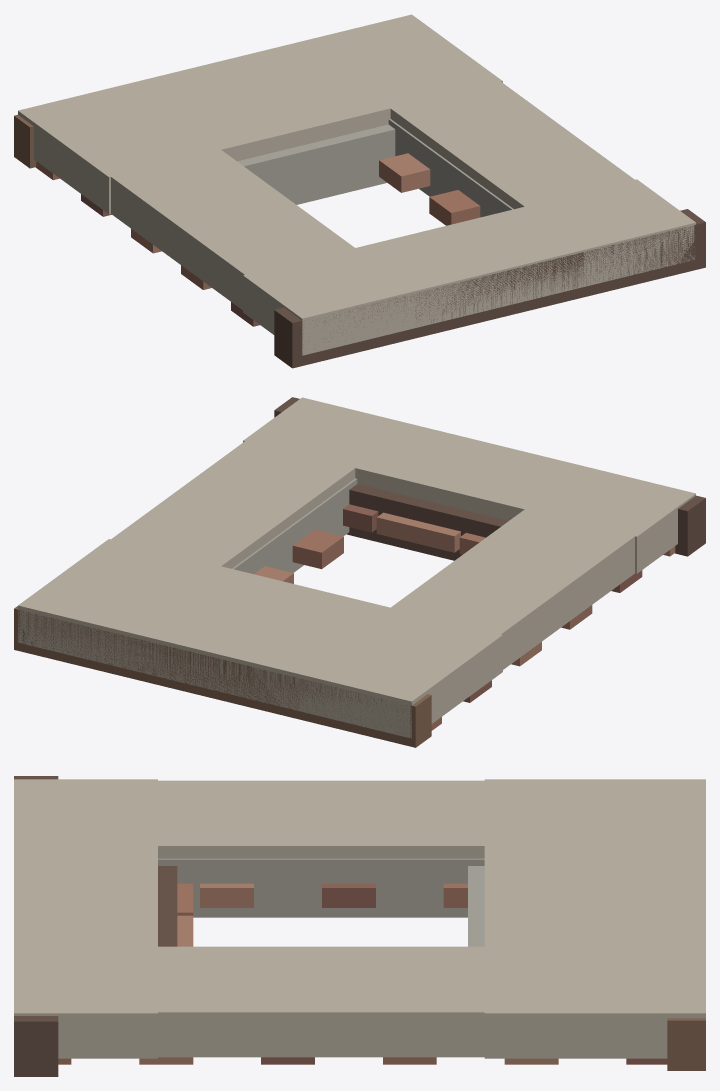
Rendered from tier03_brick_masonry_wall_with_window.glb.
The picture shows the model from 3 angles, top to bottom: view 1: azimuth 30°, elevation 25°; view 2: azimuth 150°, elevation 25°; view 3: azimuth 270°, elevation 25°; orthographic projection. The views are drawn at different scales.
Visible parts, largest first — view 1: tier03_brick_masonry_wall_with_window_000, tier03_brick_masonry_wall_with_window_001, tier03_brick_masonry_wall_with_window_002, tier03_brick_masonry_wall_with_window_003, tier03_brick_masonry_wall_with_window_044, tier03_brick_masonry_wall_with_window_046, tier03_brick_masonry_wall_with_window_049, tier03_brick_masonry_wall_with_window_021, tier03_brick_masonry_wall_with_window_026, tier03_brick_masonry_wall_with_window_045; view 2: tier03_brick_masonry_wall_with_window_002, tier03_brick_masonry_wall_with_window_000, tier03_brick_masonry_wall_with_window_001, tier03_brick_masonry_wall_with_window_003, tier03_brick_masonry_wall_with_window_045, tier03_brick_masonry_wall_with_window_047, tier03_brick_masonry_wall_with_window_049, tier03_brick_masonry_wall_with_window_032, tier03_brick_masonry_wall_with_window_044, tier03_brick_masonry_wall_with_window_026, tier03_brick_masonry_wall_with_window_033; view 3: tier03_brick_masonry_wall_with_window_001, tier03_brick_masonry_wall_with_window_002, tier03_brick_masonry_wall_with_window_000, tier03_brick_masonry_wall_with_window_003, tier03_brick_masonry_wall_with_window_048, tier03_brick_masonry_wall_with_window_044, tier03_brick_masonry_wall_with_window_045, tier03_brick_masonry_wall_with_window_047, tier03_brick_masonry_wall_with_window_046, tier03_brick_masonry_wall_with_window_023, tier03_brick_masonry_wall_with_window_028, tier03_brick_masonry_wall_with_window_018 (+2 smaller).
Part boxes in pixels (box(x1,y1,x2,y2)): tier03_brick_masonry_wall_with_window_000: box(20, 83, 414, 355); tier03_brick_masonry_wall_with_window_001: box(300, 15, 694, 286); tier03_brick_masonry_wall_with_window_002: box(18, 14, 502, 213); tier03_brick_masonry_wall_with_window_003: box(243, 179, 695, 355); tier03_brick_masonry_wall_with_window_044: box(274, 209, 705, 368); tier03_brick_masonry_wall_with_window_046: box(237, 124, 395, 204); tier03_brick_masonry_wall_with_window_049: box(388, 119, 513, 217); tier03_brick_masonry_wall_with_window_021: box(379, 153, 430, 192); tier03_brick_masonry_wall_with_window_026: box(429, 190, 480, 225); tier03_brick_masonry_wall_with_window_045: box(14, 114, 36, 168); tier03_brick_masonry_wall_with_window_002: box(18, 539, 502, 738); tier03_brick_masonry_wall_with_window_000: box(299, 466, 693, 737); tier03_brick_masonry_wall_with_window_001: box(20, 398, 413, 669); tier03_brick_masonry_wall_with_window_003: box(243, 397, 695, 573); tier03_brick_masonry_wall_with_window_045: box(14, 606, 431, 747); tier03_brick_masonry_wall_with_window_047: box(346, 484, 508, 560); tier03_brick_masonry_wall_with_window_049: box(232, 478, 357, 574); tier03_brick_masonry_wall_with_window_032: box(376, 512, 460, 552); tier03_brick_masonry_wall_with_window_044: box(274, 397, 705, 556); tier03_brick_masonry_wall_with_window_026: box(292, 529, 343, 569); tier03_brick_masonry_wall_with_window_033: box(343, 504, 378, 532); tier03_brick_masonry_wall_with_window_001: box(14, 946, 705, 1057); tier03_brick_masonry_wall_with_window_002: box(484, 779, 705, 1058); tier03_brick_masonry_wall_with_window_000: box(14, 780, 705, 858); tier03_brick_masonry_wall_with_window_003: box(14, 779, 157, 1058); tier03_brick_masonry_wall_with_window_048: box(158, 858, 484, 917); tier03_brick_masonry_wall_with_window_044: box(14, 776, 58, 1076); tier03_brick_masonry_wall_with_window_045: box(667, 1018, 705, 1070); tier03_brick_masonry_wall_with_window_047: box(158, 866, 177, 946); tier03_brick_masonry_wall_with_window_046: box(468, 866, 484, 946); tier03_brick_masonry_wall_with_window_023: box(322, 883, 375, 907); tier03_brick_masonry_wall_with_window_028: box(200, 883, 253, 907); tier03_brick_masonry_wall_with_window_018: box(443, 883, 467, 907).
Bounding box in the file's own units: 2.1 × 0.325 × 2.5.
